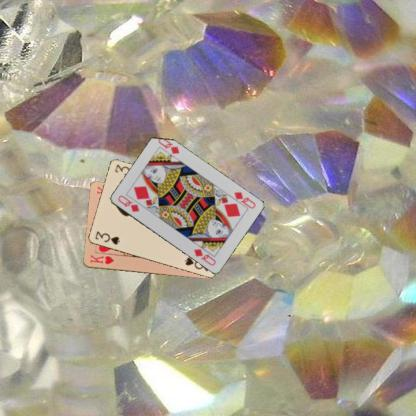3s: (92, 228, 121, 246)
Kh: (87, 252, 115, 265)
Qd: (227, 189, 257, 210), (115, 193, 140, 213)
